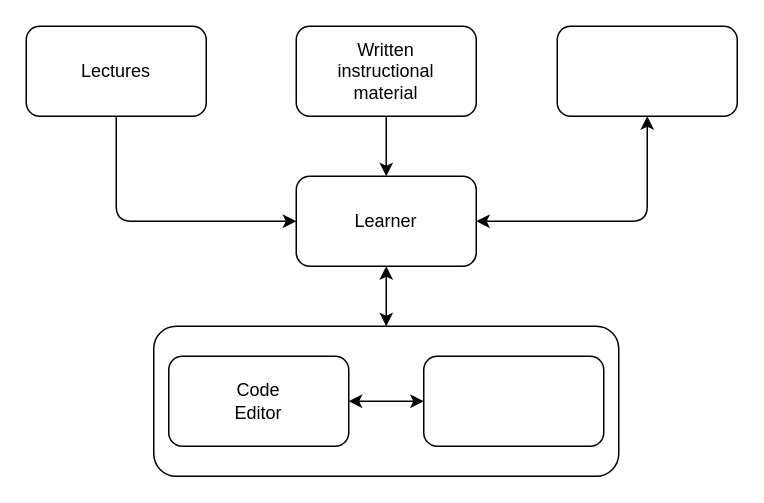
This 764x503 diagram has some shape labels left out. Each missing label, with the centre of its shape:
Assessment: (x=646, y=70)
Code Execution Enviornment: (x=513, y=400)
